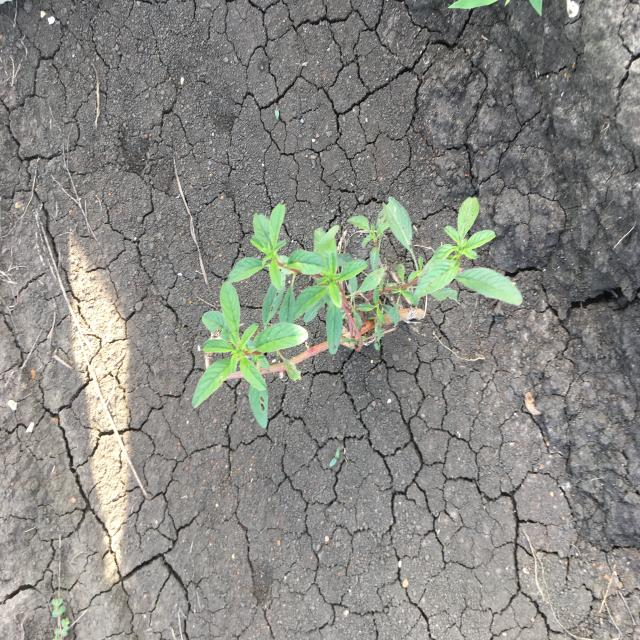SpottedSpurge: (48, 597, 70, 639)
Waterhemp: (190, 194, 524, 430)
